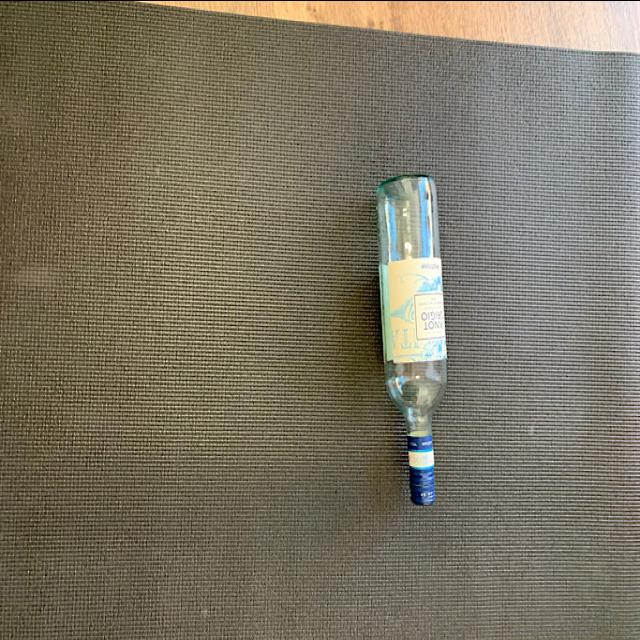Glass Bottle: (374, 159, 459, 505)
